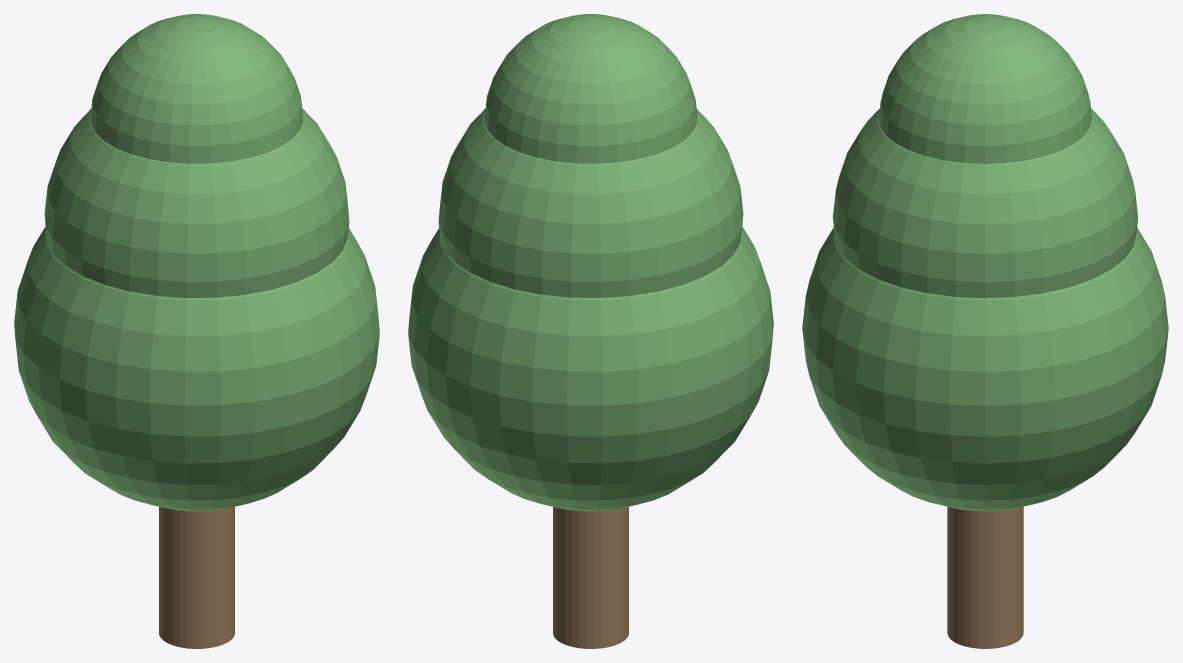
Rendered from prop_tree.glb.
3 views of the same model, side by side, from view 1: azimuth 30°, elevation 25°; view 2: azimuth 150°, elevation 25°; view 3: azimuth 270°, elevation 25° (orthographic).
Visible parts, largest first — view 1: Tree_Decorative; view 2: Tree_Decorative; view 3: Tree_Decorative.
Boxes of the visible parts, x1,y1,x2,y2 form: Tree_Decorative: (14,14,379,648); Tree_Decorative: (408,14,773,648); Tree_Decorative: (802,14,1168,648).
Size of the model in its own units: 2.4 by 4.4 by 2.4.
